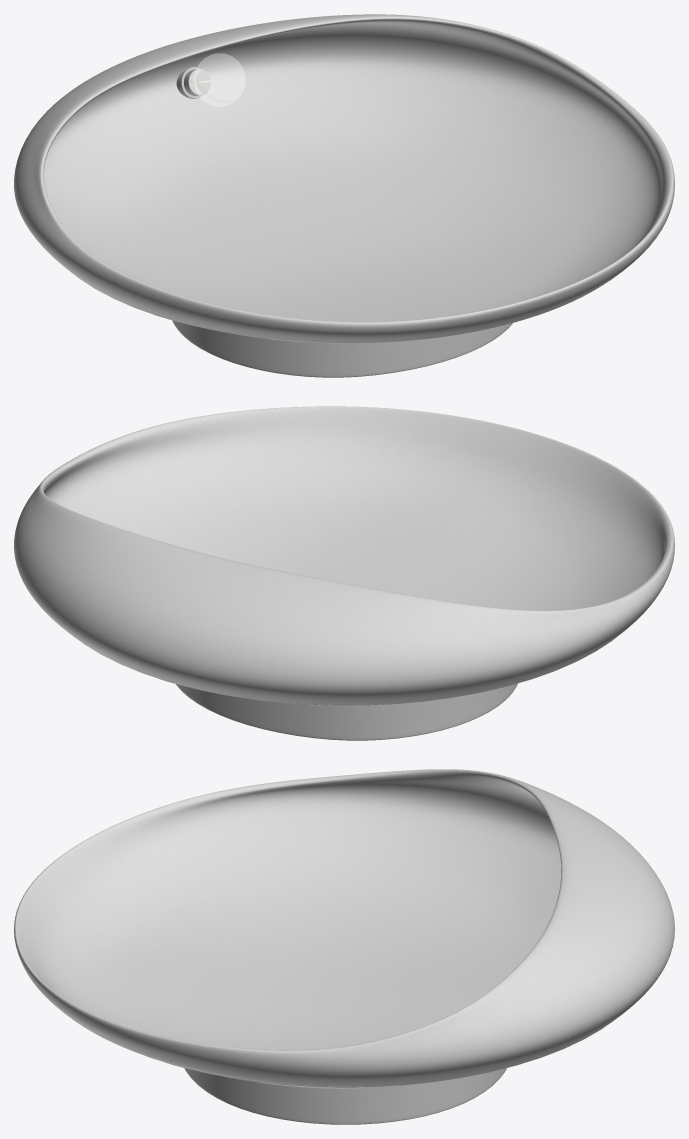
The model's file is Flindt_Wall_Dia20.glb.
The picture shows the model from 3 angles, top to bottom: view 1: azimuth 30°, elevation 25°; view 2: azimuth 150°, elevation 25°; view 3: azimuth 270°, elevation 25°; orthographic projection.
Visible parts, largest first — view 1: plastic, blub; view 2: plastic; view 3: plastic.
Boxes of the visible parts, x1,y1,x2,y2 form: plastic: [14, 14, 674, 377]; blub: [189, 53, 245, 106]; plastic: [14, 406, 674, 740]; plastic: [14, 769, 674, 1124].
Size of the model in its own units: 0.2 by 0.0624 by 0.2.
2 materials, 2 textured.
